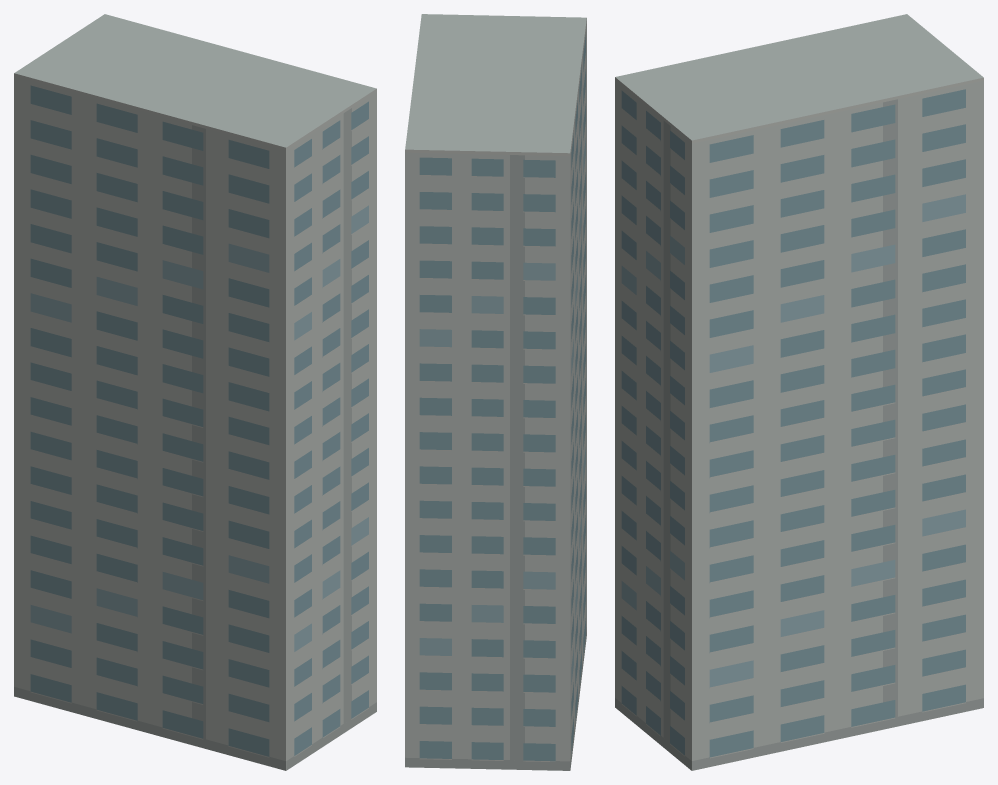
File: residential-008971cf-4bd6-44a6-9e68-9c40ea3ff893.glb
3 renders of one model, left to right at view 1: azimuth 30°, elevation 25°; view 2: azimuth 150°, elevation 25°; view 3: azimuth 270°, elevation 25°, orthographic. The views are drawn at different scales.
Visible parts, largest first — view 1: residential-008971cf-4bd6-44a6-9e68-9c40ea3ff893.tmp; view 2: residential-008971cf-4bd6-44a6-9e68-9c40ea3ff893.tmp; view 3: residential-008971cf-4bd6-44a6-9e68-9c40ea3ff893.tmp.
Boxes of the visible parts, box(x1,y1,x2,y2) form: residential-008971cf-4bd6-44a6-9e68-9c40ea3ff893.tmp: box(14, 14, 376, 770); residential-008971cf-4bd6-44a6-9e68-9c40ea3ff893.tmp: box(405, 14, 586, 770); residential-008971cf-4bd6-44a6-9e68-9c40ea3ff893.tmp: box(615, 14, 983, 770).
Size of the model in its own units: 21.1 by 49 by 25.99.
